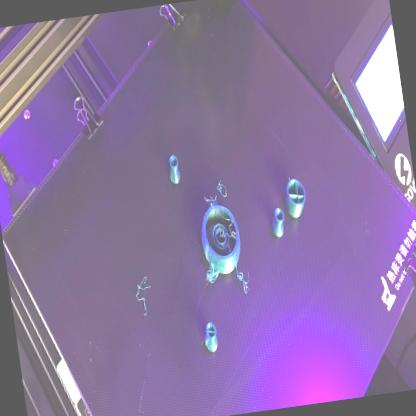fail: (134, 270, 159, 332), (200, 174, 231, 210), (238, 270, 258, 302), (205, 257, 221, 288)
